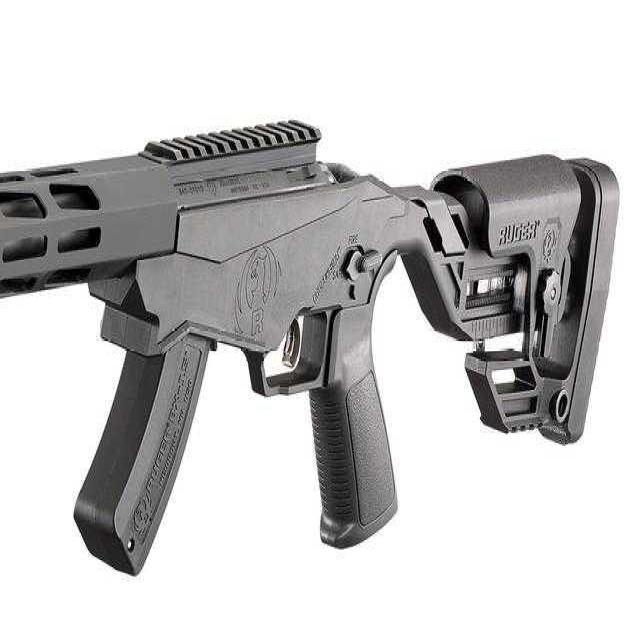weapon: (0, 77, 618, 550)
